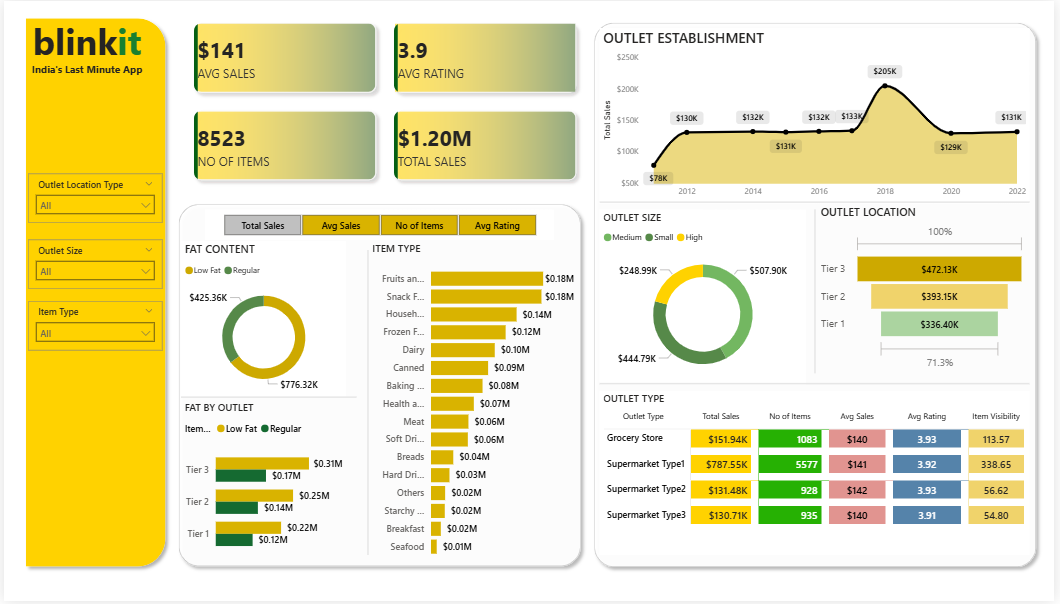

What the dashboard file says about the page in this screenshot:
{"tool":"powerbi","page":{"name":"Page 1","canvas":[1400,800],"ordinal":0},"visuals":[{"type":"shape","box":[19.5,14.2,204.1,749.1],"z":0},{"type":"textbox","box":[24.8,14.5,173.6,95.1],"z":1000},{"type":"textbox","box":[24.8,76.5,173.6,51.7],"z":2000},{"type":"cardVisual","fields":{"Data":["BlinkIT Grocery Data.Avg Sales","BlinkIT Grocery Data.Avg Rating","BlinkIT Grocery Data.No of Items","BlinkIT Grocery Data.Total Sales"]},"box":[223.7,0,569.8,269.8],"z":3000},{"type":"shape","box":[223.7,262.7,553.9,500.6],"z":4000},{"type":"slicer","title":"FAT CONTENT","fields":{"Values":["BlinkIT Grocery Data.Outlet Location Type"]},"box":[32,230.8,179.3,65.7],"z":5000},{"type":"shape","box":[777.5,19.5,607.1,743.8],"z":6000},{"type":"lineChart","title":"OUTLET ESTABLISHMENT","fields":{"Y":["BlinkIT Grocery Data.Total Sales"],"Category":["BlinkIT Grocery Data.Outlet Establishment Year"]},"box":[793.5,35.5,573.4,234.3],"z":7000},{"type":"shape","box":[793.5,246.8,573.4,44.4],"z":8000},{"type":"donutChart","title":"OUTLET SIZE","fields":{"Y":["BlinkIT Grocery Data.Total Sales"],"Category":["BlinkIT Grocery Data.Outlet Size"]},"box":[793.5,278.7,275.2,234.3],"z":9000},{"type":"shape","box":[1052.7,278.7,58.6,218.3],"z":10000},{"type":"funnel","title":"OUTLET LOCATION","fields":{"Y":["BlinkIT Grocery Data.Total Sales"],"Category":["BlinkIT Grocery Data.Outlet Location Type"]},"box":[1084.6,269.8,282.3,227],"z":11000},{"type":"shape","box":[793.5,488.2,573.4,44.4],"z":12000},{"type":"pivotTable","title":"OUTLET TYPE","fields":{"Rows":["BlinkIT Grocery Data.Outlet Type"],"Values":["BlinkIT Grocery Data.Total Sales","BlinkIT Grocery Data.No of Items","BlinkIT Grocery Data.Avg Sales","BlinkIT Grocery Data.Avg Rating","Sum(BlinkIT Grocery Data.Item Visibility)"]},"box":[793.5,520.1,573.4,218.3],"z":13000},{"type":"donutChart","title":"FAT CONTENT","fields":{"Y":["BlinkIT Grocery Data.Total Sales"],"Category":["BlinkIT Grocery Data.Item Fat Content"]},"box":[236.1,319.5,220.1,209.5],"z":14000},{"type":"slicer","fields":{"Values":["Metrics.Metrics"]},"box":[268.1,278.7,465.1,40.8],"z":15000},{"type":"clusteredBarChart","title":"FAT BY OUTLET","fields":{"Y":["BlinkIT Grocery Data.Total Sales"],"Category":["BlinkIT Grocery Data.Outlet Location Type"],"Series":["BlinkIT Grocery Data.Item Fat Content"]},"box":[236.1,532.6,220.1,218.3],"z":16000},{"type":"shape","box":[236.1,505.9,234.3,44.4],"z":17000},{"type":"shape","box":[456.2,332,58.6,406.5],"z":18000},{"type":"barChart","title":"ITEM TYPE","fields":{"Y":["BlinkIT Grocery Data.Total Sales"],"Category":["BlinkIT Grocery Data.Item Type"]},"box":[486.4,319.5,278.7,431.4],"z":19000},{"type":"slicer","title":"FAT CONTENT","fields":{"Values":["BlinkIT Grocery Data.Outlet Size"]},"box":[32,317.8,179.3,65.7],"z":20000},{"type":"slicer","title":"FAT CONTENT","fields":{"Values":["BlinkIT Grocery Data.Item Type"]},"box":[32,399.4,179.3,65.7],"z":21000}]}

Visuals, with their boxes in screenshot pixels (x1, y1, x2, y2), scaled from the page's 1400x800 canvas onto the 1060x604 screenshot:
shape: left=15, top=11, right=169, bottom=576
textbox: left=19, top=11, right=150, bottom=83
textbox: left=19, top=58, right=150, bottom=97
cardVisual - BlinkIT Grocery Data.Avg Sales x BlinkIT Grocery Data.Avg Rating: left=169, top=0, right=601, bottom=204
shape: left=169, top=198, right=589, bottom=576
"FAT CONTENT" slicer: left=24, top=174, right=160, bottom=224
shape: left=589, top=15, right=1048, bottom=576
"OUTLET ESTABLISHMENT" lineChart: left=601, top=27, right=1035, bottom=204
shape: left=601, top=186, right=1035, bottom=220
"OUTLET SIZE" donutChart: left=601, top=210, right=809, bottom=387
shape: left=797, top=210, right=841, bottom=375
"OUTLET LOCATION" funnel: left=821, top=204, right=1035, bottom=375
shape: left=601, top=369, right=1035, bottom=402
"OUTLET TYPE" pivotTable: left=601, top=393, right=1035, bottom=557
"FAT CONTENT" donutChart: left=179, top=241, right=345, bottom=399
slicer - Metrics.Metrics: left=203, top=210, right=555, bottom=241
"FAT BY OUTLET" clusteredBarChart: left=179, top=402, right=345, bottom=567
shape: left=179, top=382, right=356, bottom=415
shape: left=345, top=251, right=390, bottom=558
"ITEM TYPE" barChart: left=368, top=241, right=579, bottom=567
"FAT CONTENT" slicer: left=24, top=240, right=160, bottom=290
"FAT CONTENT" slicer: left=24, top=302, right=160, bottom=351
